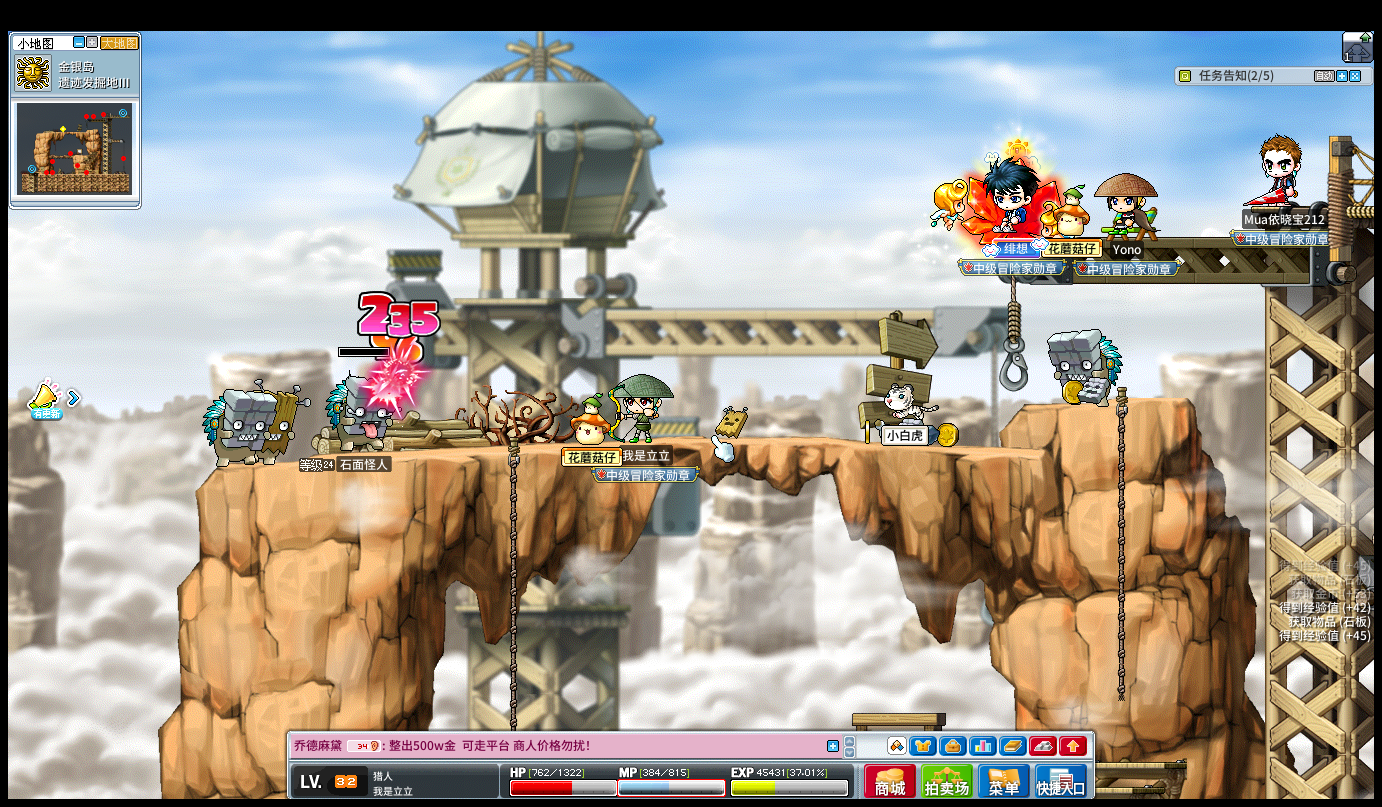floor: (224, 430, 1101, 457), (1013, 393, 1191, 409)
monster: (1046, 328, 1123, 406), (201, 389, 276, 467), (324, 373, 388, 451)
rope: (1112, 384, 1128, 704), (507, 430, 518, 673)
